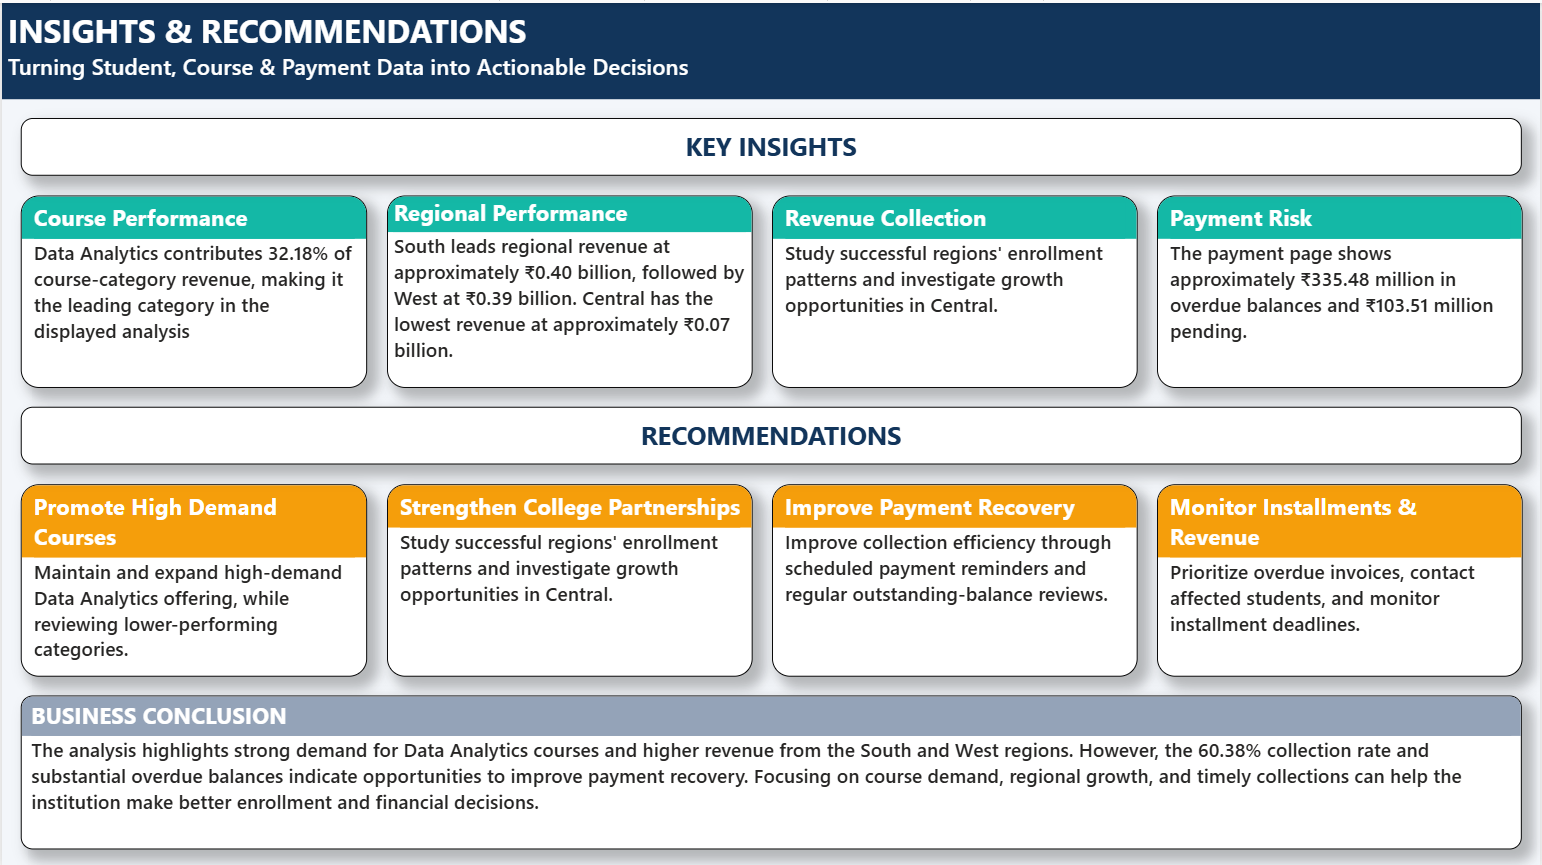

This screenshot's page, from the dashboard's own definition file:
{"tool":"powerbi","page":{"name":"Insights & Recommendations","canvas":[1280,720],"ordinal":4},"visuals":[{"type":"textbox","box":[0,0,1280,80],"z":0},{"type":"textbox","title":"Course Performance","box":[16,160,288,160],"z":1000},{"type":"textbox","title":"Regional Performance","box":[320,160,304,160],"z":2000},{"type":"textbox","title":"Revenue Collection","box":[640,160,304,160],"z":3000},{"type":"textbox","title":"Payment Risk","box":[960,160,304,160],"z":4000},{"type":"textbox","title":"Promote High Demand Courses","box":[16,400,288,160],"z":5000},{"type":"textbox","title":"Strengthen College Partnerships","box":[320,400,304,160],"z":6000},{"type":"textbox","title":"Improve Payment Recovery","box":[640,400,304,160],"z":7000},{"type":"textbox","title":"Monitor Installments & Revenue","box":[960,400,304,160],"z":8000},{"type":"textbox","box":[16,96,1248,48],"z":9000},{"type":"textbox","box":[16,336,1248,48],"z":10000},{"type":"textbox","title":"BUSINESS CONCLUSION","box":[16,576,1248,128],"z":11000}]}

Visuals, with their boxes in screenshot pixels (x1, y1, x2, y2), scaled from the page's 1280x720 canvas onto the 1542x865 screenshot:
textbox: 0/0/1541/96
"Course Performance" textbox: 19/192/366/384
"Regional Performance" textbox: 386/192/752/384
"Revenue Collection" textbox: 771/192/1137/384
"Payment Risk" textbox: 1156/192/1523/384
"Promote High Demand Courses" textbox: 19/481/366/673
"Strengthen College Partnerships" textbox: 386/481/752/673
"Improve Payment Recovery" textbox: 771/481/1137/673
"Monitor Installments & Revenue" textbox: 1156/481/1523/673
textbox: 19/115/1523/173
textbox: 19/404/1523/461
"BUSINESS CONCLUSION" textbox: 19/692/1523/846
